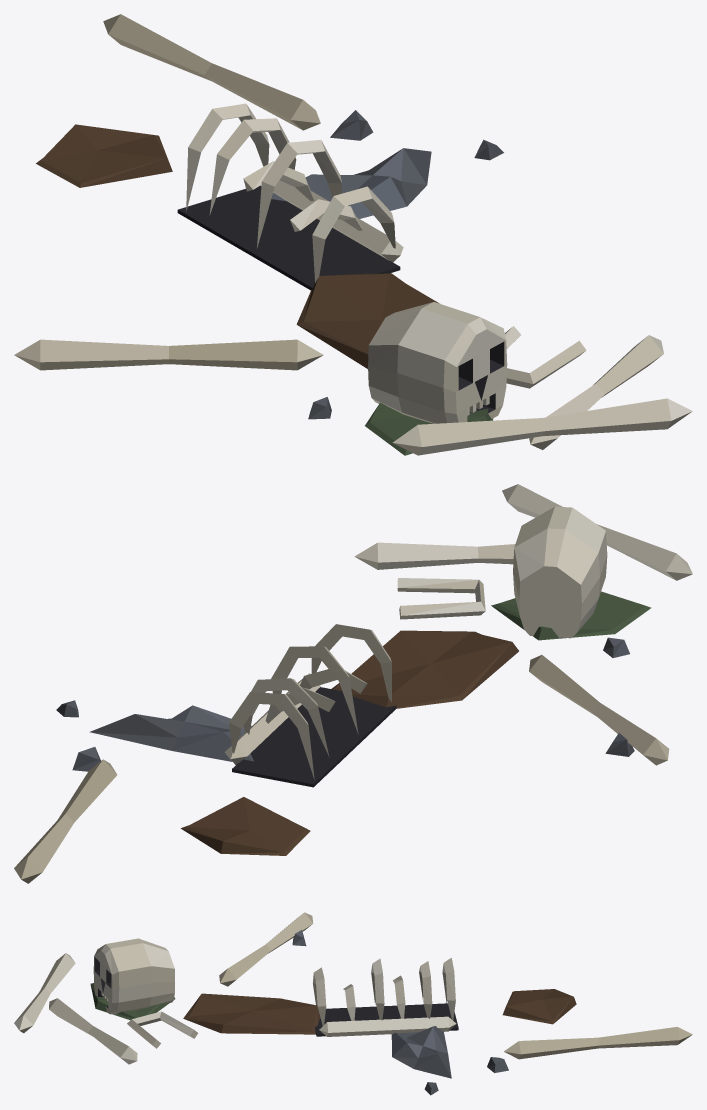
Rendered from bone-scatter-90313d.glb.
3 views of the same model, one above another, from view 1: azimuth 30°, elevation 25°; view 2: azimuth 150°, elevation 25°; view 3: azimuth 270°, elevation 25° (orthographic). The views are drawn at different scales.
Visible parts, largest first — view 1: bone-scatter; view 2: bone-scatter; view 3: bone-scatter.
Boxes of the visible parts, left/top/right/bottom form: bone-scatter: left=14, top=14, right=692, bottom=455; bone-scatter: left=14, top=484, right=692, bottom=883; bone-scatter: left=14, top=912, right=692, bottom=1095.
Bounding box in the file's own units: 0.8792 × 0.1549 × 1.47.
